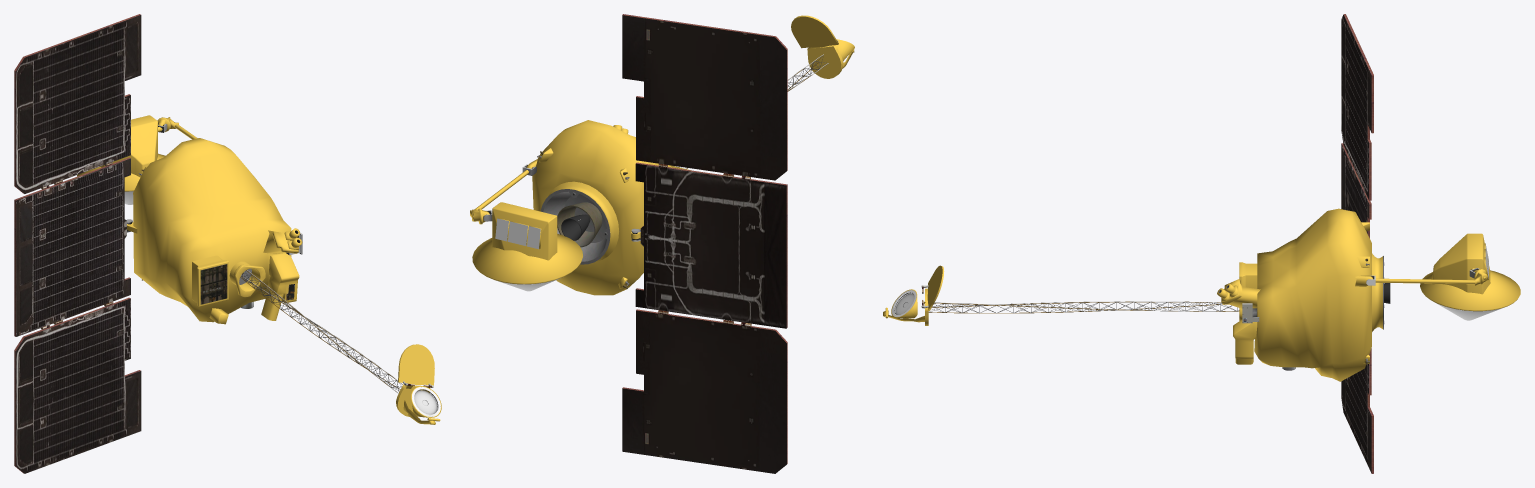
File: mars-odyssey.glb
3 renders of one model, left to right at view 1: azimuth 30°, elevation 25°; view 2: azimuth 150°, elevation 25°; view 3: azimuth 270°, elevation 25°, orthographic. The views are drawn at different scales.
Visible parts, largest first — view 1: shiny_panel, foil_gold, tex_02, tex_boom, tex_01, tex_AO; view 2: tex_01, tex_02, foil_gold, normal_panels, tex_04; view 3: foil_gold, shiny_panel, tex_boom, tex_02.
Part boxes in pixels (x1,y1,x2,y2): shiny_panel: [16, 15, 141, 473]; foil_gold: [77, 115, 441, 424]; tex_02: [14, 14, 251, 473]; tex_boom: [240, 270, 402, 393]; tex_01: [41, 124, 433, 387]; tex_AO: [412, 387, 440, 416]; tex_01: [526, 15, 838, 473]; tex_02: [540, 14, 787, 463]; foil_gold: [470, 15, 854, 295]; normal_panels: [495, 218, 540, 249]; tex_04: [540, 151, 627, 288]; foil_gold: [883, 208, 1520, 381]; shiny_panel: [1341, 14, 1371, 473]; tex_boom: [928, 301, 1239, 313]; tex_02: [1341, 14, 1384, 473].
Size of what is drawn, in the model's own units: 2.33 by 3.93 by 5.7.
Materials: 10 (7 with a texture image).
